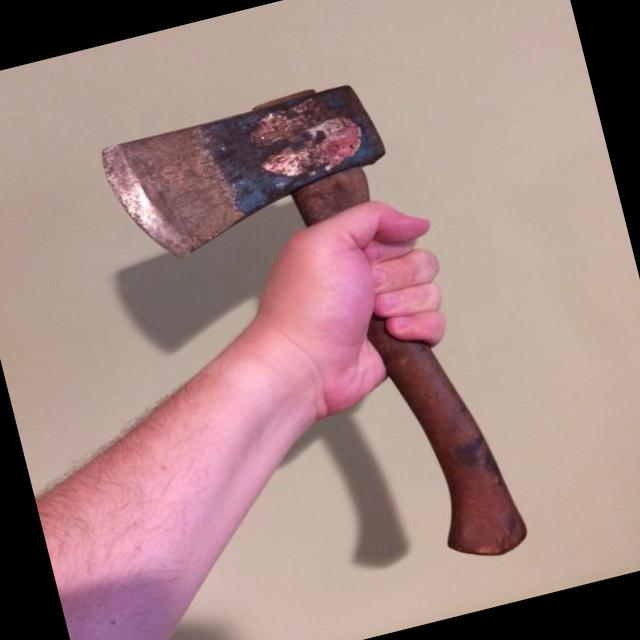Axe: (103, 85, 384, 253), (369, 318, 526, 554)
